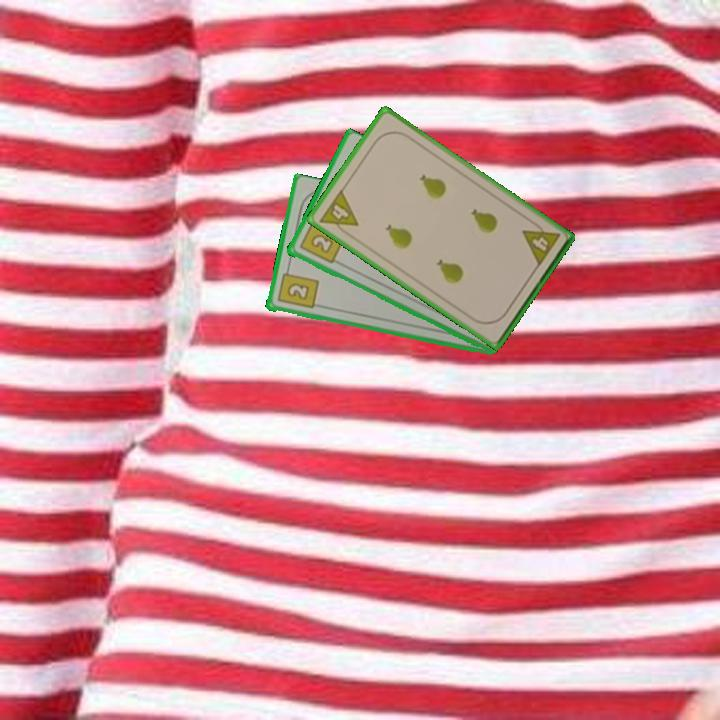2b: (296, 214, 346, 267), (274, 264, 321, 312)
4p: (316, 186, 361, 240), (519, 217, 563, 269)
